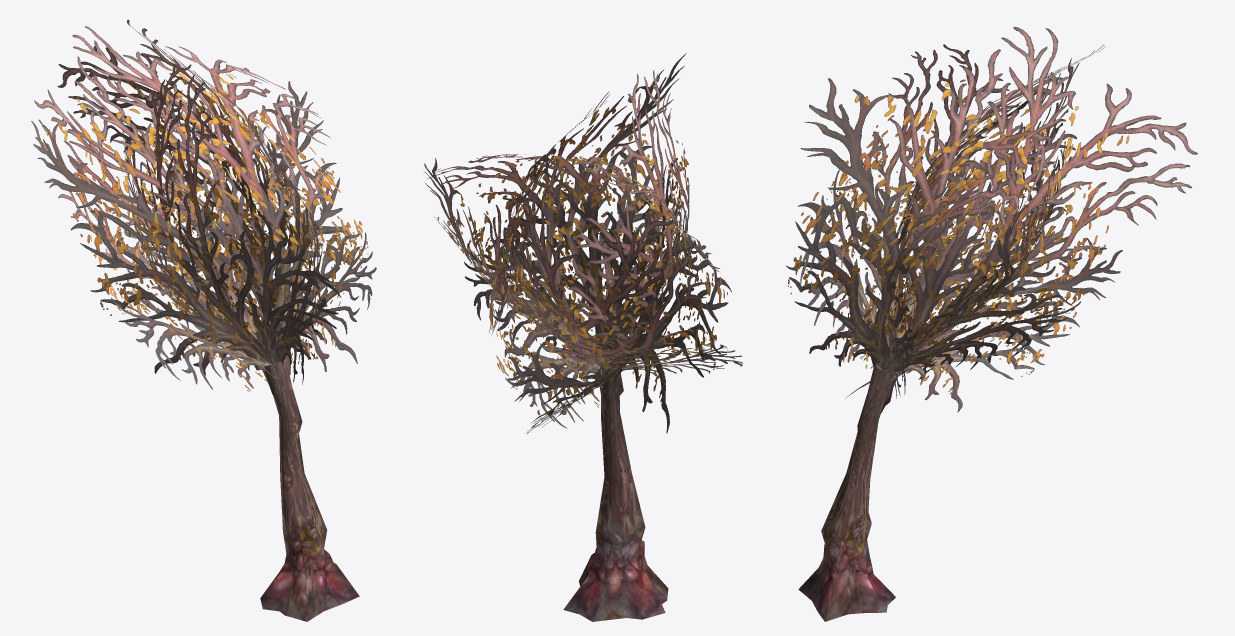
File: dragonblight_treeinfected03.obj
3 renders of one model, left to right at view 1: azimuth 30°, elevation 25°; view 2: azimuth 150°, elevation 25°; view 3: azimuth 270°, elevation 25°, orthographic. The views are drawn at different scales.
Parts seen in each view (by area): view 1: Geoset1, Geoset0; view 2: Geoset1, Geoset0; view 3: Geoset1, Geoset0.
Boxes of the visible parts, box(x1,y1,x2,y2) form: Geoset1: box(31, 20, 376, 391); Geoset0: box(260, 361, 359, 621); Geoset1: box(424, 53, 742, 433); Geoset0: box(563, 373, 668, 621); Geoset1: box(786, 26, 1197, 412); Geoset0: box(798, 364, 898, 621).
Bounding box in the file's own units: 15.38 × 27.02 × 19.83.
2 materials, 2 textured.
